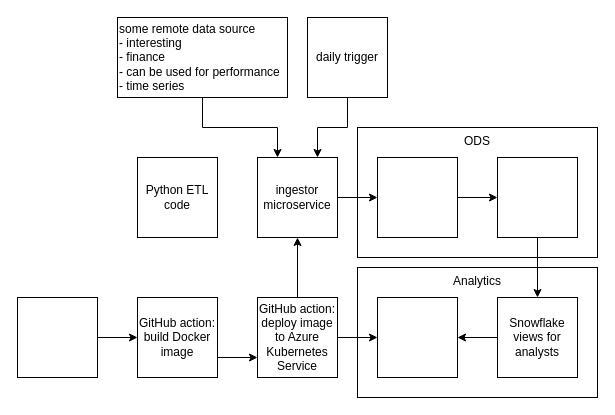
This 615x415 diagram has some shape labels left out. Here are the shapes that lost their labels. From the top down, the centre of each, then its label:
point (417, 197): Parquet file in Azure blob storage
point (537, 197): Snowflake external table?
point (57, 337): Python code incl. streamlit
point (417, 337): Streamlit app
